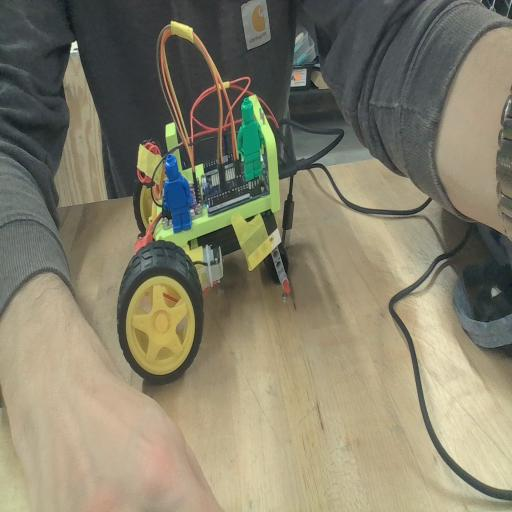blue LEGO minifig: (160, 152, 197, 237)
green LEGO minifig: (236, 96, 266, 186)
